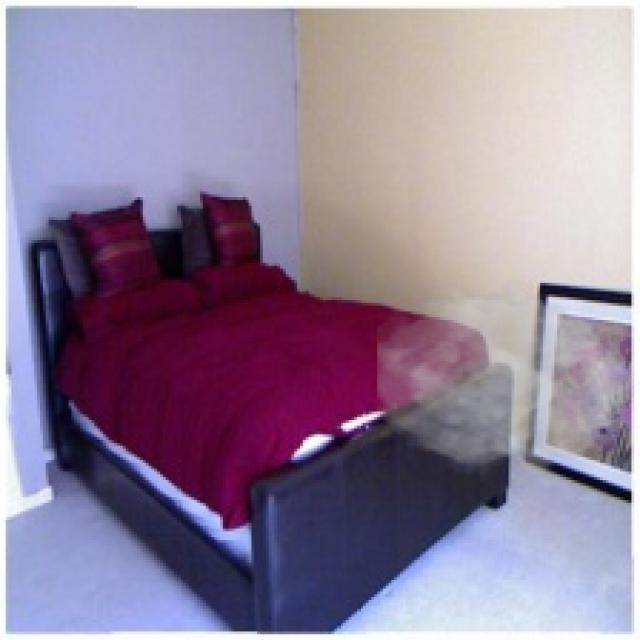Smoke: (377, 277, 634, 480)
